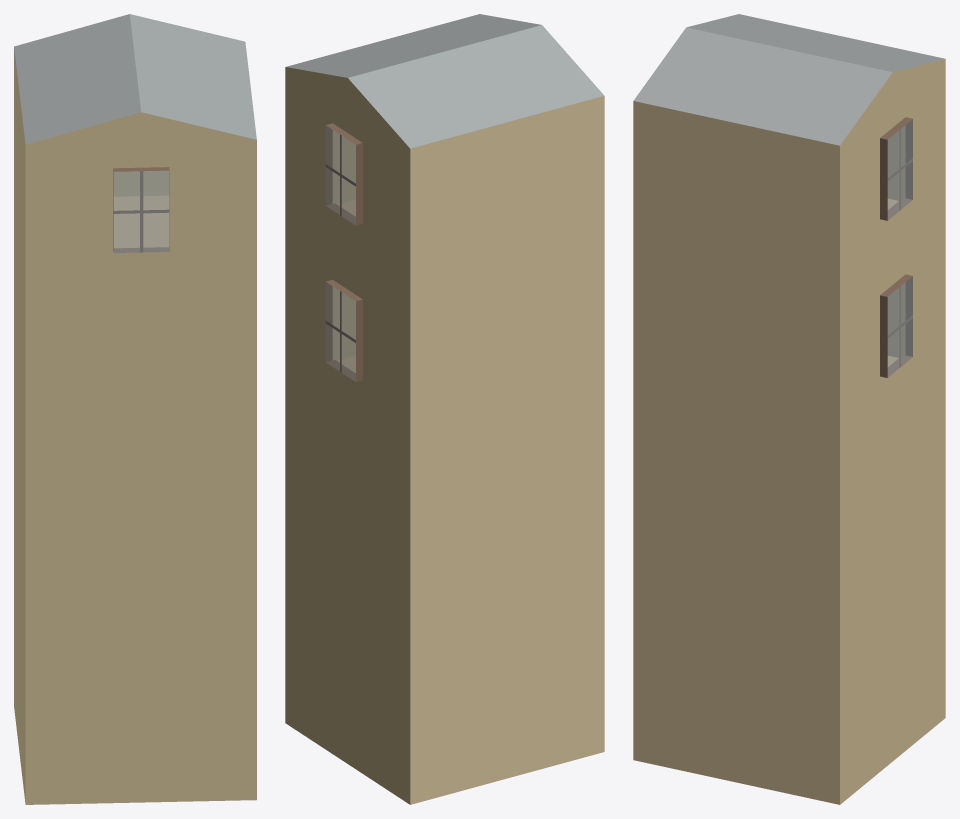
File: N-40-42.middle_four_storey.glb
3 renders of one model, left to right at view 1: azimuth 30°, elevation 25°; view 2: azimuth 150°, elevation 25°; view 3: azimuth 270°, elevation 25°, orthographic.
Visible parts, largest first — view 1: N-40-42.middle_four_storey; view 2: N-40-42.middle_four_storey; view 3: N-40-42.middle_four_storey.
Part boxes in pixels (box(x1,y1,x2,y2)): N-40-42.middle_four_storey: box(14, 14, 256, 804); N-40-42.middle_four_storey: box(285, 14, 604, 804); N-40-42.middle_four_storey: box(633, 14, 945, 804).
Bounding box in the file's own units: 5.57 × 13.59 × 5.58.
